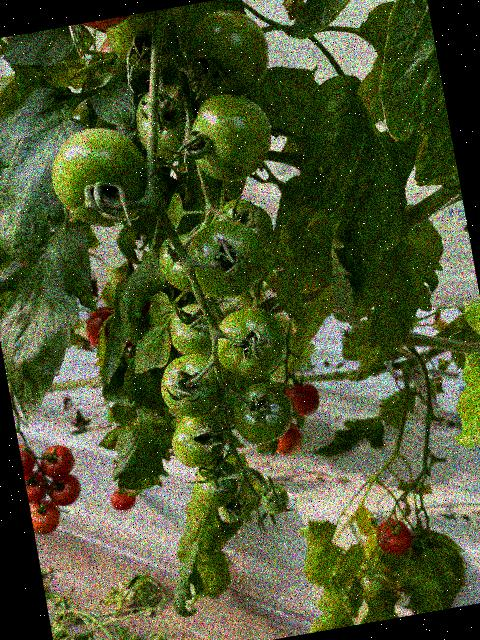l_fully_ripened: (81, 301, 139, 355), (373, 514, 415, 558), (283, 380, 323, 419), (37, 442, 78, 480), (46, 471, 85, 509), (267, 420, 305, 458), (28, 496, 64, 536), (23, 468, 51, 504), (108, 486, 138, 513), (18, 442, 39, 476)
l_green: (44, 119, 157, 235), (178, 3, 276, 105), (183, 86, 278, 187), (182, 213, 273, 304), (130, 77, 211, 166), (208, 302, 291, 384), (104, 5, 194, 76), (155, 349, 229, 423), (207, 192, 278, 265), (227, 377, 298, 448), (167, 409, 231, 472), (155, 230, 211, 298), (165, 299, 226, 360), (189, 456, 244, 512), (257, 481, 292, 517), (216, 497, 244, 523)
